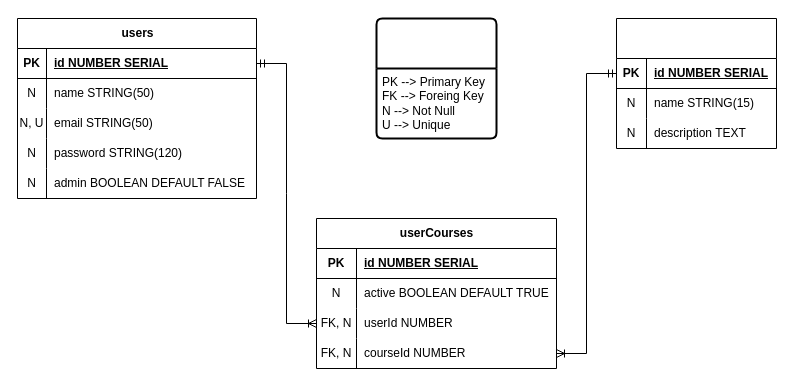
Some shapes in this 794 by 386 pixel diagram are drawn without their labels. The shapes that lost their labels are listed below. From the top down, each one's box as (x1, y1, x2, y2) in pixels, then its label:
(375, 17, 497, 139): Legenda
(616, 18, 776, 148): courses
